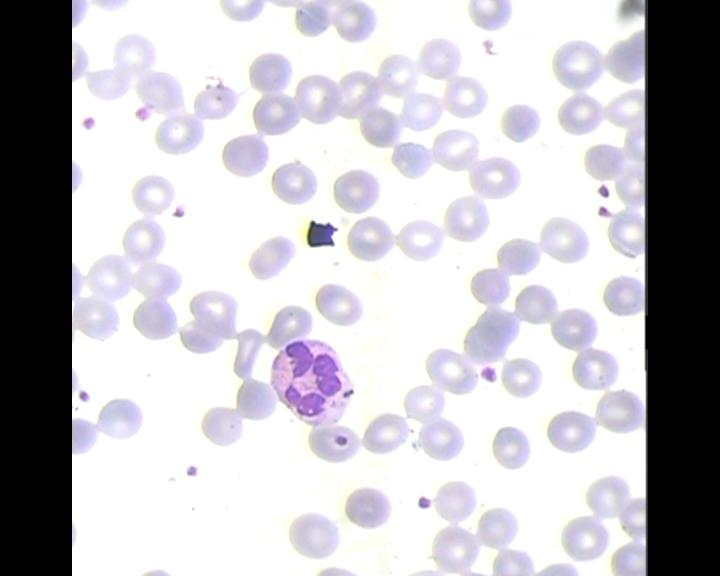neut: (266, 341, 361, 424)
